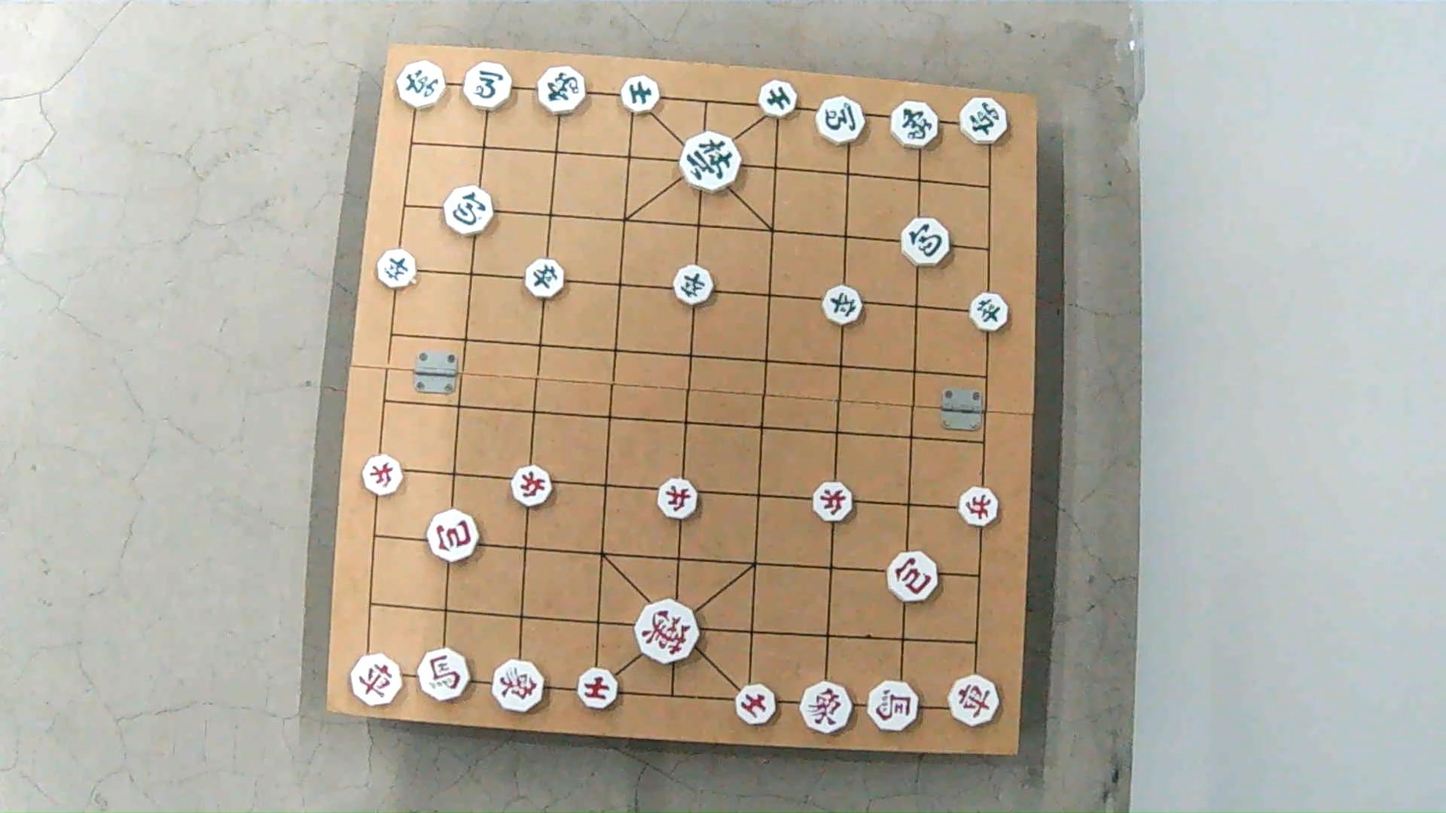cha_green: (397, 61, 447, 108), (959, 99, 1010, 144)
cha_red: (346, 653, 404, 708), (946, 672, 999, 728)
jol_green: (672, 266, 714, 303), (525, 260, 567, 297), (821, 287, 862, 324), (376, 251, 417, 288), (967, 292, 1009, 328)
jol_red: (510, 467, 554, 506), (810, 483, 853, 522), (360, 456, 402, 495), (656, 480, 697, 519), (957, 489, 998, 526)
ma_green: (816, 99, 868, 144), (464, 64, 514, 109)
ma_red: (869, 680, 919, 732), (418, 650, 471, 699)
po_green: (446, 188, 496, 236), (903, 220, 953, 266)
po_red: (426, 512, 478, 561), (888, 553, 940, 601)
sa_green: (620, 77, 661, 112), (759, 82, 799, 117)
sa_red: (735, 683, 778, 723), (578, 669, 620, 708)
sang_green: (538, 69, 589, 114), (889, 100, 938, 146)
sang_red: (799, 682, 856, 731), (494, 662, 545, 708)
wang_green: (682, 132, 744, 187)
wang_red: (634, 603, 700, 662)
